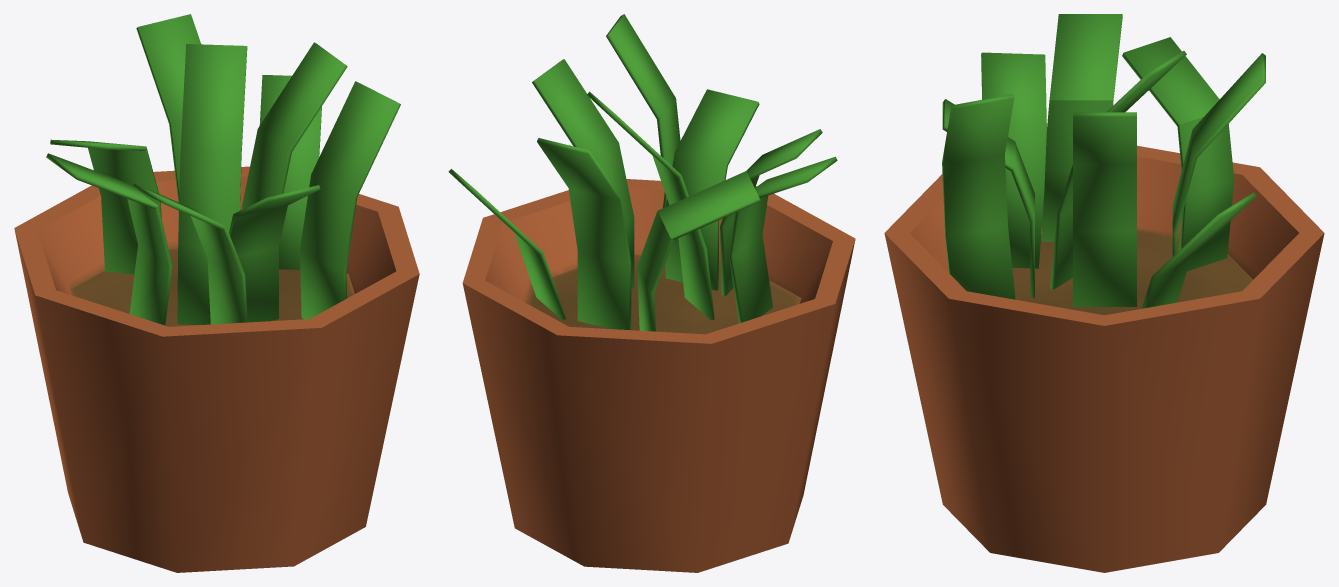
The model's file is Planta.fbx.
3 views of the same model, side by side, from view 1: azimuth 30°, elevation 25°; view 2: azimuth 150°, elevation 25°; view 3: azimuth 270°, elevation 25° (orthographic). The views are drawn at different scales.
Parts seen in each view (by area): view 1: Planta; view 2: Planta; view 3: Planta.
Boxes of the visible parts, <box> form: Planta: <box>14,14,419,572</box>; Planta: <box>448,14,855,572</box>; Planta: <box>884,14,1324,572</box>.
Bounding box in the file's own units: 90.14 × 104 × 90.14.
